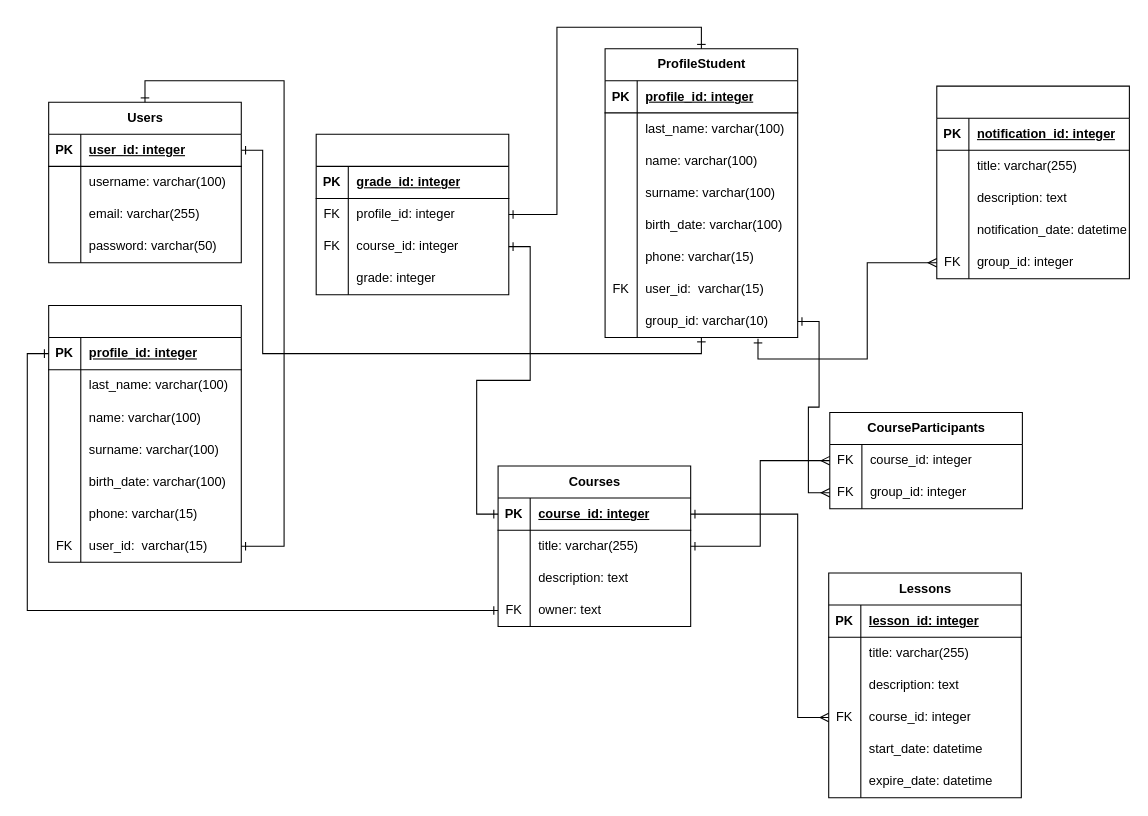
Image size: 1148x816. Some labels were removed from this diagram. Here are the shapes that lost their labels. From the top down, the box of each, then its label:
(936, 85, 1129, 279): Notifications
(315, 133, 509, 295): Grades
(48, 304, 241, 562): ProfileTeacher
